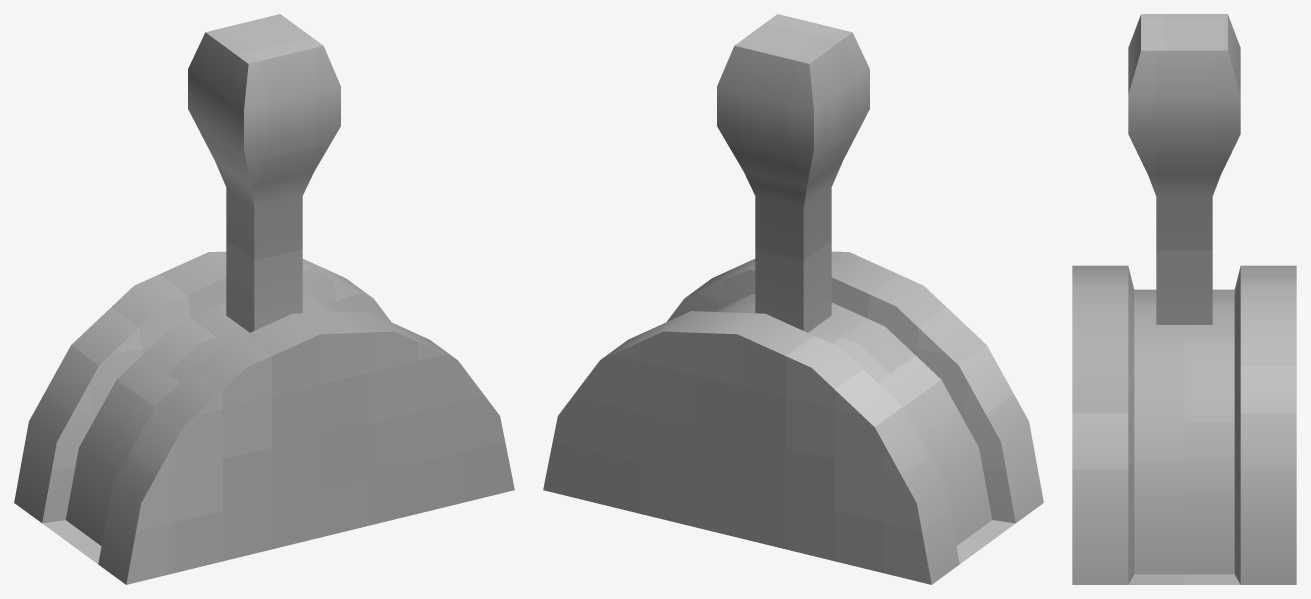
File: Lever.fbx
3 views of the same model, side by side, from view 1: azimuth 30°, elevation 25°; view 2: azimuth 150°, elevation 25°; view 3: azimuth 270°, elevation 25° (orthographic).
Parts seen in each view (by area): view 1: Lever, Lever-Handle; view 2: Lever, Lever-Handle; view 3: Lever, Lever-Handle.
Boxes of the visible parts, x1,y1,x2,y2 form: Lever: [14, 251, 514, 584]; Lever-Handle: [188, 14, 340, 332]; Lever: [543, 251, 1043, 584]; Lever-Handle: [717, 14, 869, 332]; Lever: [1072, 265, 1296, 584]; Lever-Handle: [1128, 14, 1240, 324].
Size of the model in its own units: 80 by 90 by 40.
